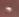Squash-Ball: (0, 1, 19, 17)
